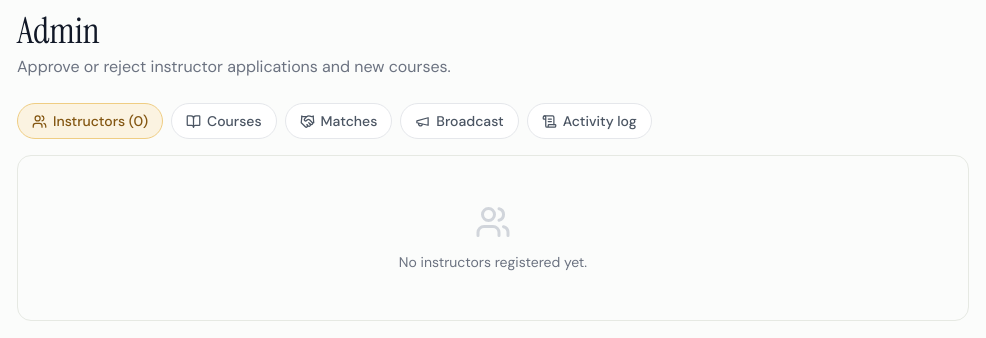
Test case: AdminDashboard › shows the admin action log
Click the button "Activity log": (589, 121) 527,103 -> 652,139
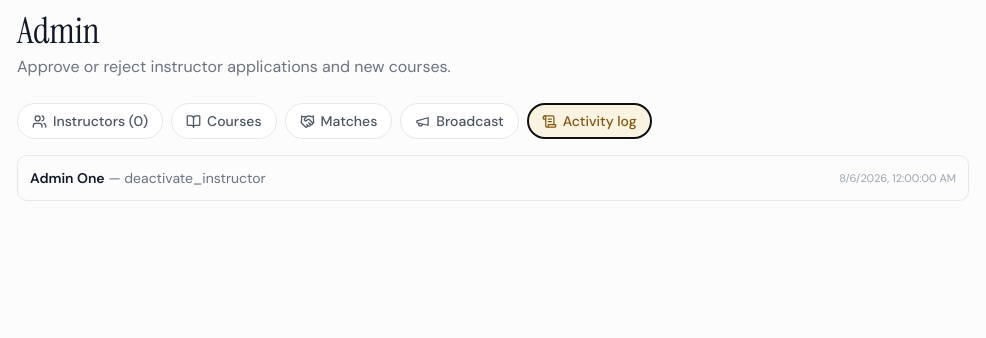
Expected: the text "Admin One" is shown, 30,169 -> 105,187
Expected: the text "— deactivate_instructor" is shown, 105,169 -> 266,187
